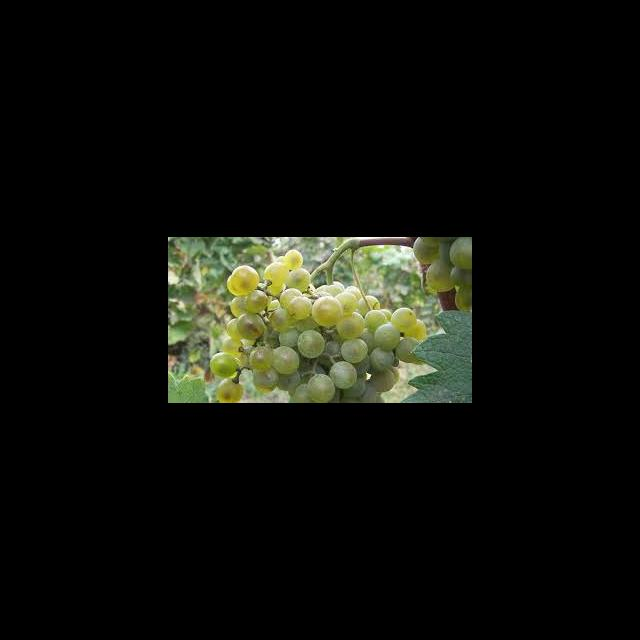grape: (209, 249, 427, 402), (412, 237, 471, 311)
